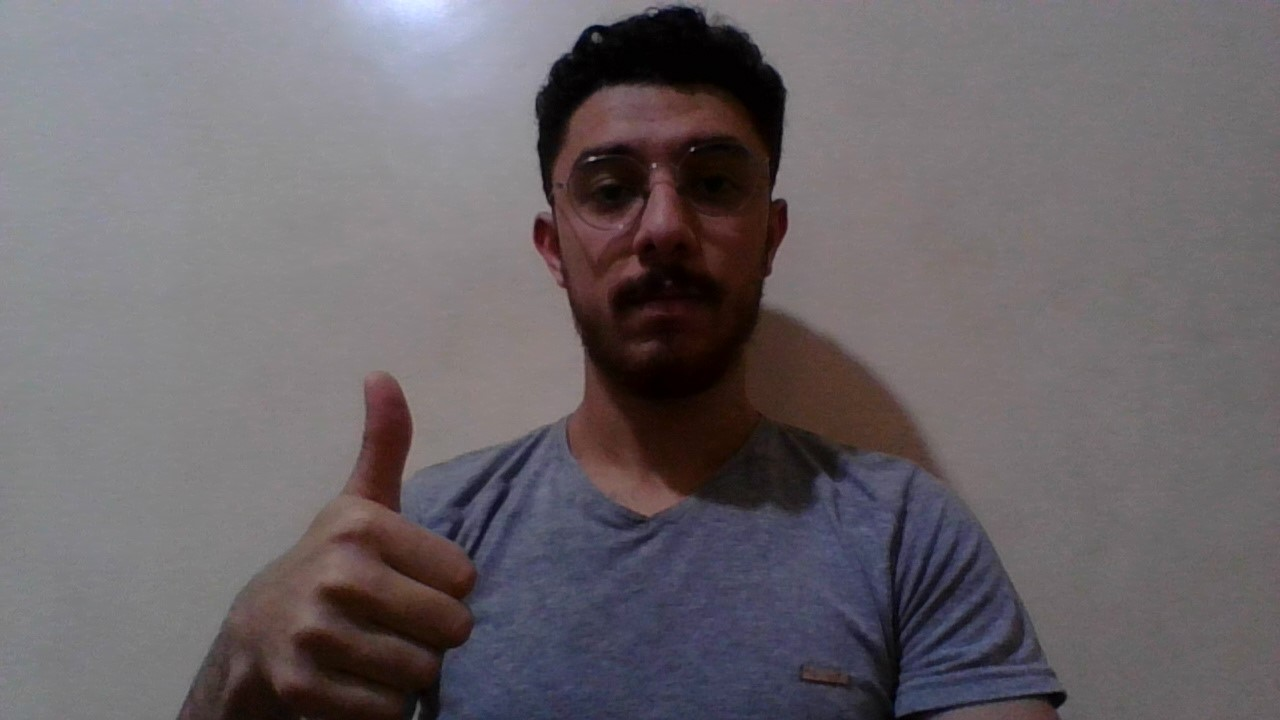Yes: (185, 352, 516, 720)
